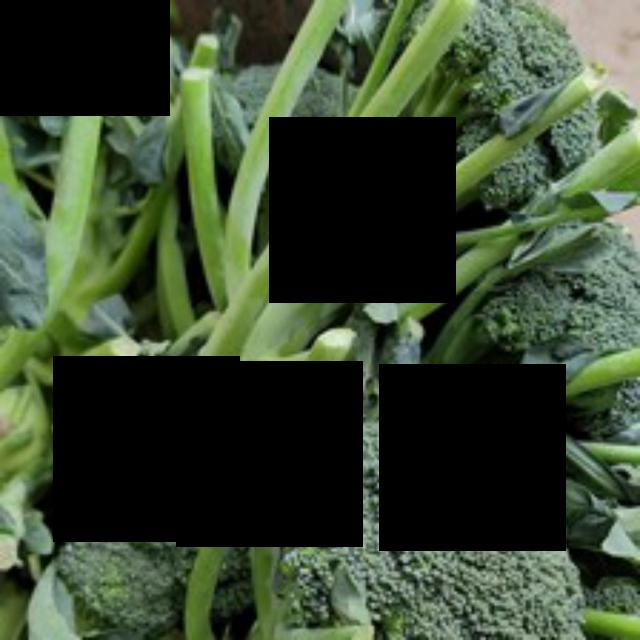broccoli: (286, 403, 586, 637)
